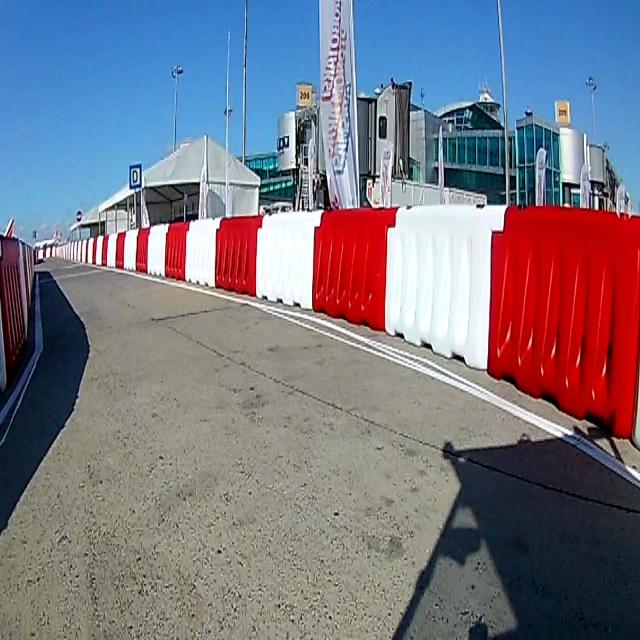durak: (130, 163, 142, 190)
